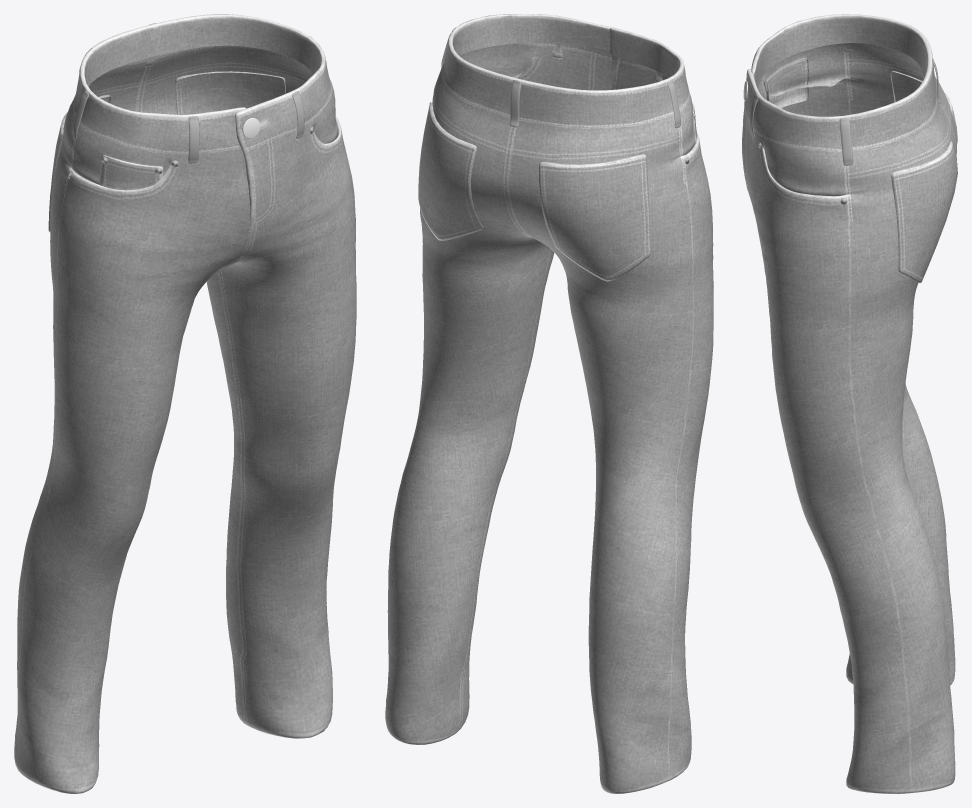
Rendered from jeans-skinny.glb.
3 renders of one model, left to right at view 1: azimuth 30°, elevation 25°; view 2: azimuth 150°, elevation 25°; view 3: azimuth 270°, elevation 25°, orthographic. The views are drawn at different scales.
Visible parts, largest first — view 1: Cube.004, Plane.007, Cube.005, Plane.008; view 2: Cube.004, Plane.008; view 3: Cube.004, Plane.008, Plane.007, Cube.006.
Boxes of the visible parts, x1,y1,x2,y2 form: Cube.004: [14, 14, 356, 793]; Plane.007: [99, 155, 162, 190]; Cube.005: [188, 91, 304, 163]; Plane.008: [48, 71, 285, 232]; Cube.004: [385, 14, 713, 793]; Plane.008: [418, 102, 650, 281]; Cube.004: [742, 14, 956, 793]; Plane.008: [890, 71, 957, 282]; Plane.007: [766, 57, 808, 107]; Cube.006: [839, 49, 853, 165].
Bounding box in the file's own units: 2.52 × 5.72 × 1.66.
Materials: 1 (1 with a texture image).
